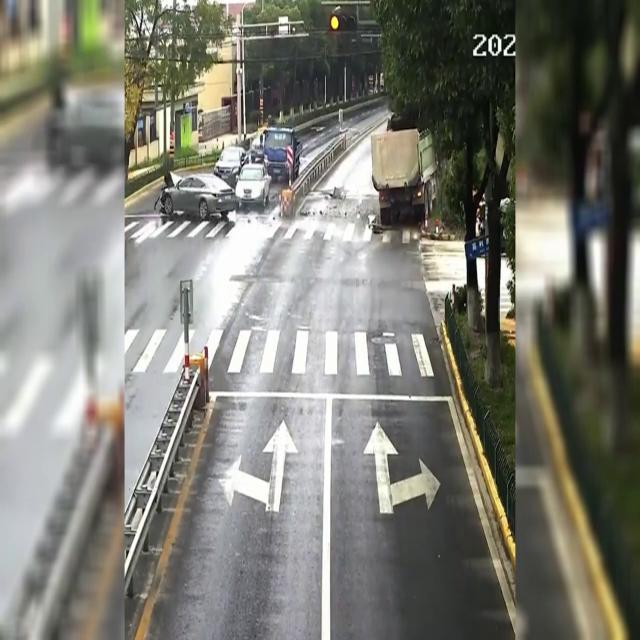multiple_accident: (148, 62, 322, 227), (365, 97, 463, 257)
